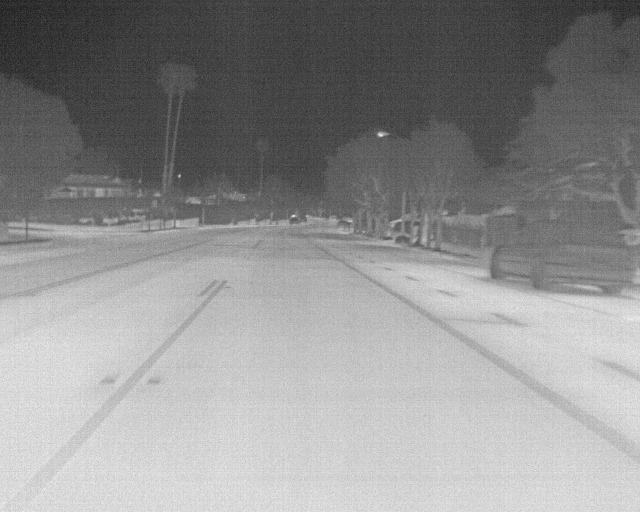car: (489, 221, 633, 298), (290, 214, 299, 225)
